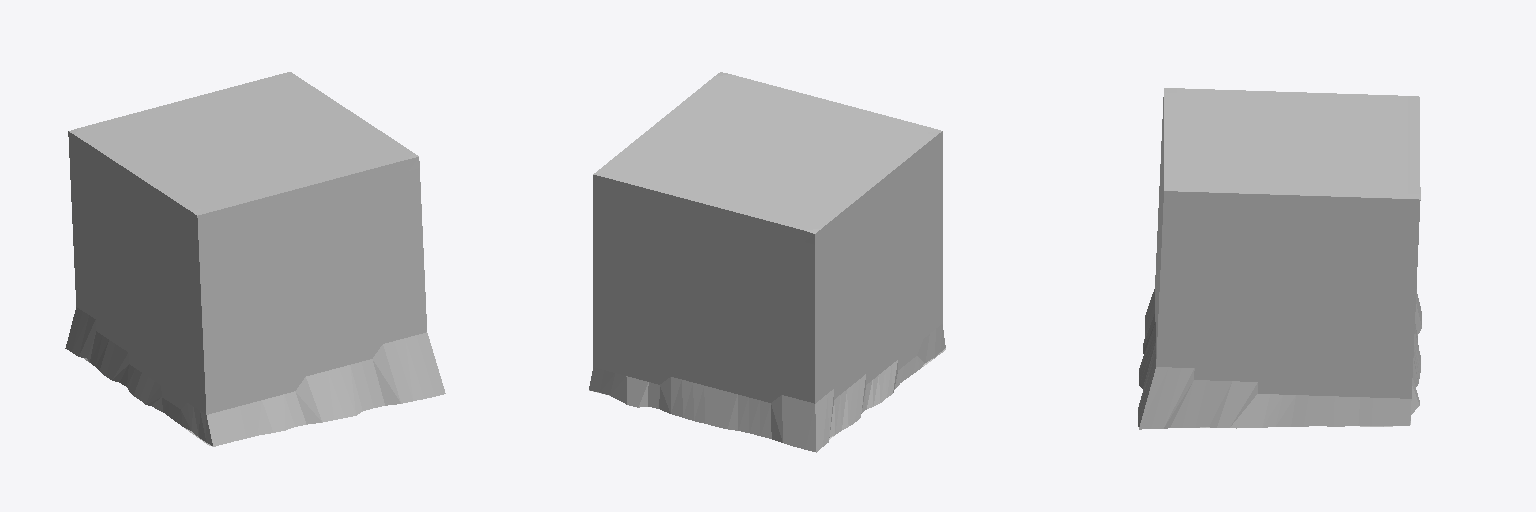
Rendered from mod0015.obj.
The picture shows the model from 3 angles: view 1: azimuth 30°, elevation 25°; view 2: azimuth 150°, elevation 25°; view 3: azimuth 270°, elevation 25°; orthographic projection.
Visible parts, largest first — view 1: Box001; view 2: Box001; view 3: Box001.
Part boxes in pixels (bbox=[...]): Box001: bbox=[65, 72, 445, 446]; Box001: bbox=[589, 72, 945, 452]; Box001: bbox=[1138, 88, 1421, 429].
Bounding box in the file's own units: 0.5799 × 0.5384 × 0.5979.